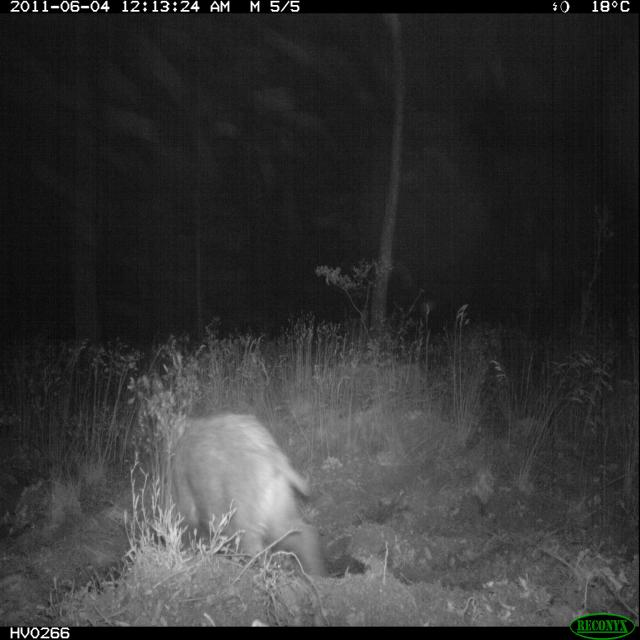boar: (110, 368, 333, 608)
